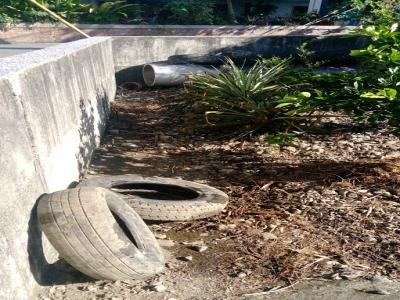tire: (34, 183, 168, 287), (75, 171, 231, 227)
